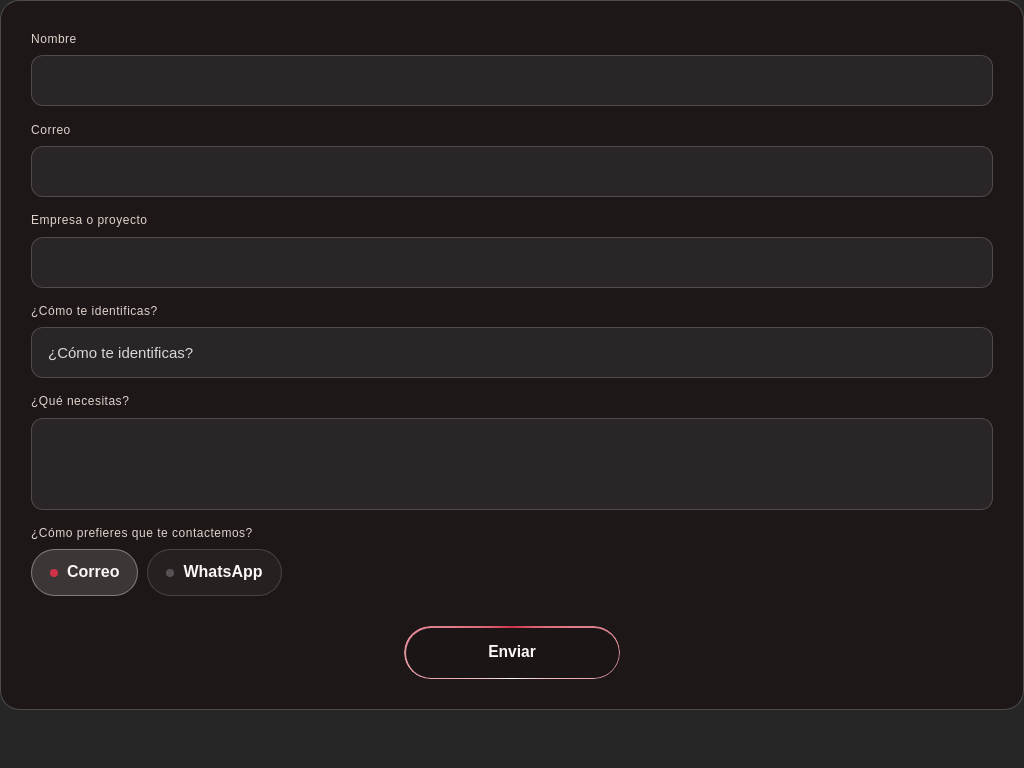
ContactForm · submitting › should keep every value and show the alert with the support link on failure
This screenshot has width=1024, height=768.
Type "Ana" into the field with id "name" at (512, 81), box top-left (31, 55), bottom-right (993, 106)
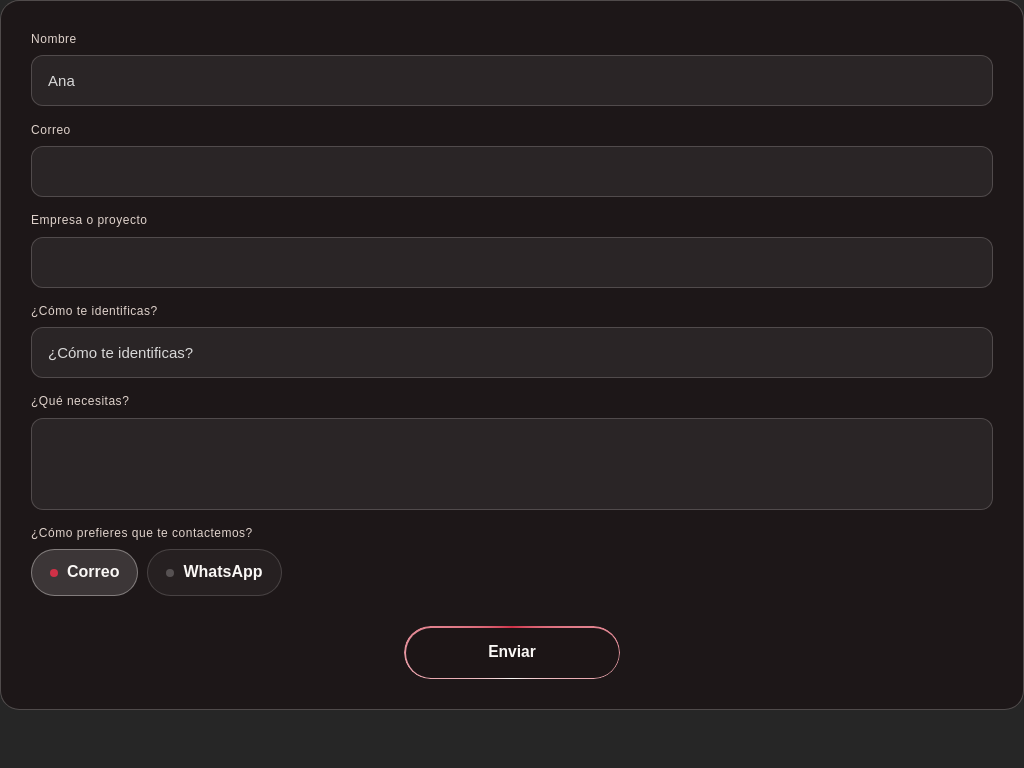
Type "ana@muush.dev" into the field with id "email" at (512, 172), box top-left (31, 146), bottom-right (993, 197)
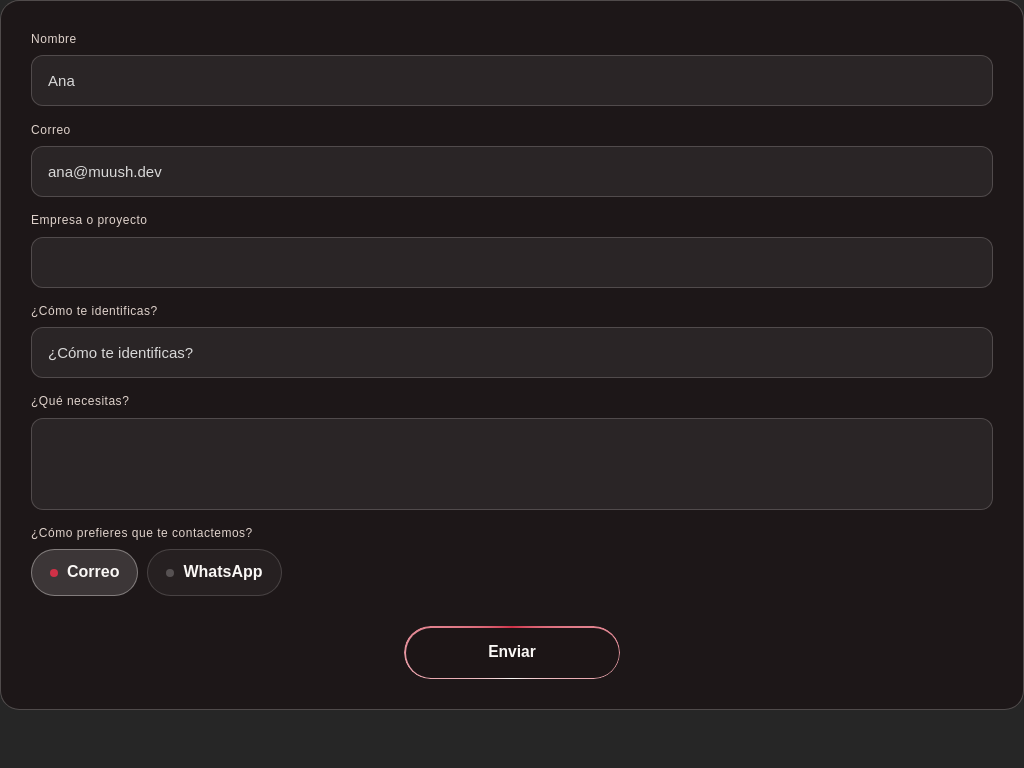
Select "Empresa" in the dropdown with id "identity" at (512, 353), box top-left (31, 327), bottom-right (993, 378)
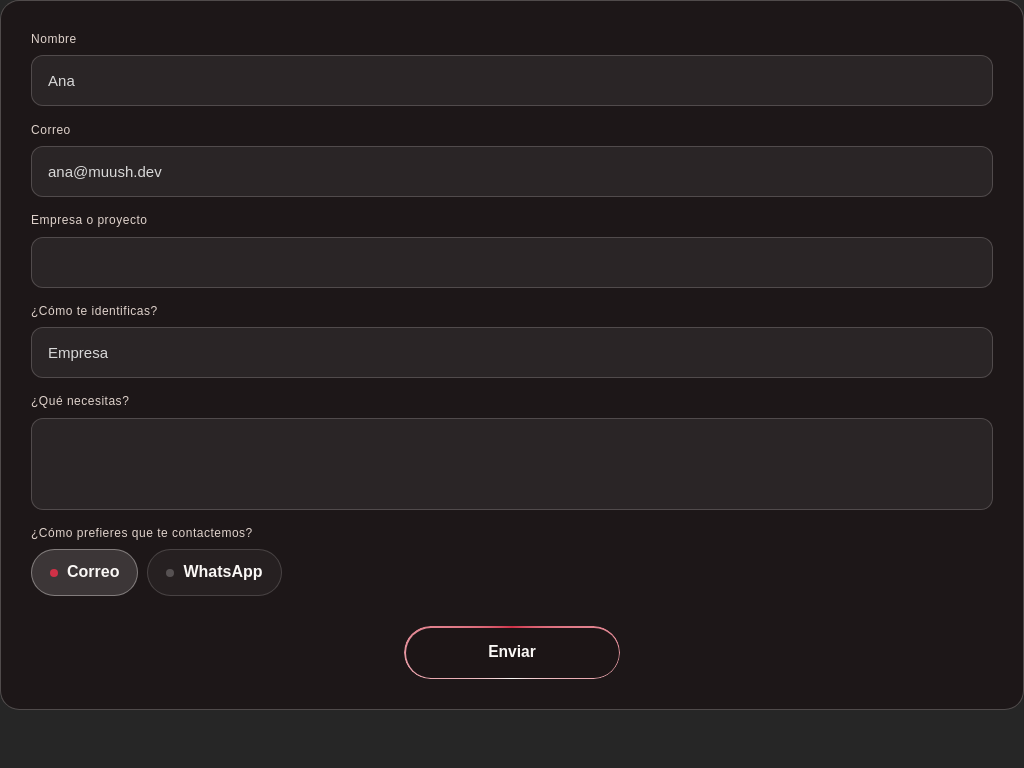
Type "Necesitamos un rediseño completo del sitio." into the text box with id "need" at (512, 464), box top-left (31, 418), bottom-right (993, 510)
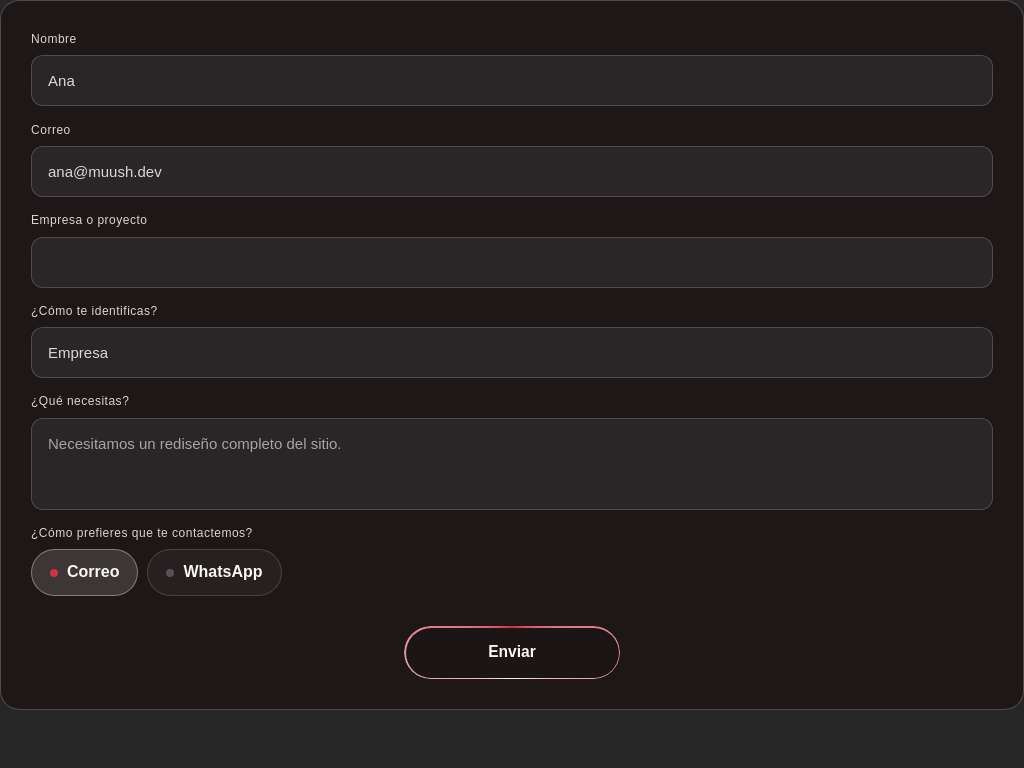
Submit the form
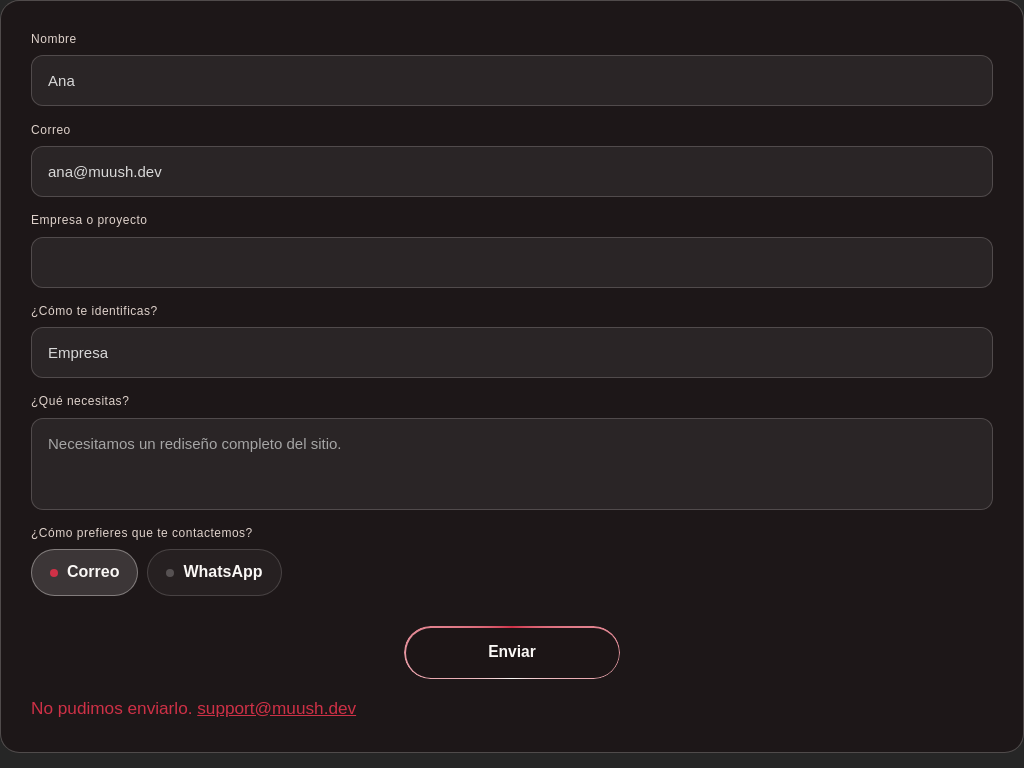
Now the message "No pudimos enviarlo. support@muush.dev" is shown, box top-left (31, 698), bottom-right (356, 718)
Now the link to "mailto:support@muush.dev" is shown, box top-left (197, 698), bottom-right (356, 718)
